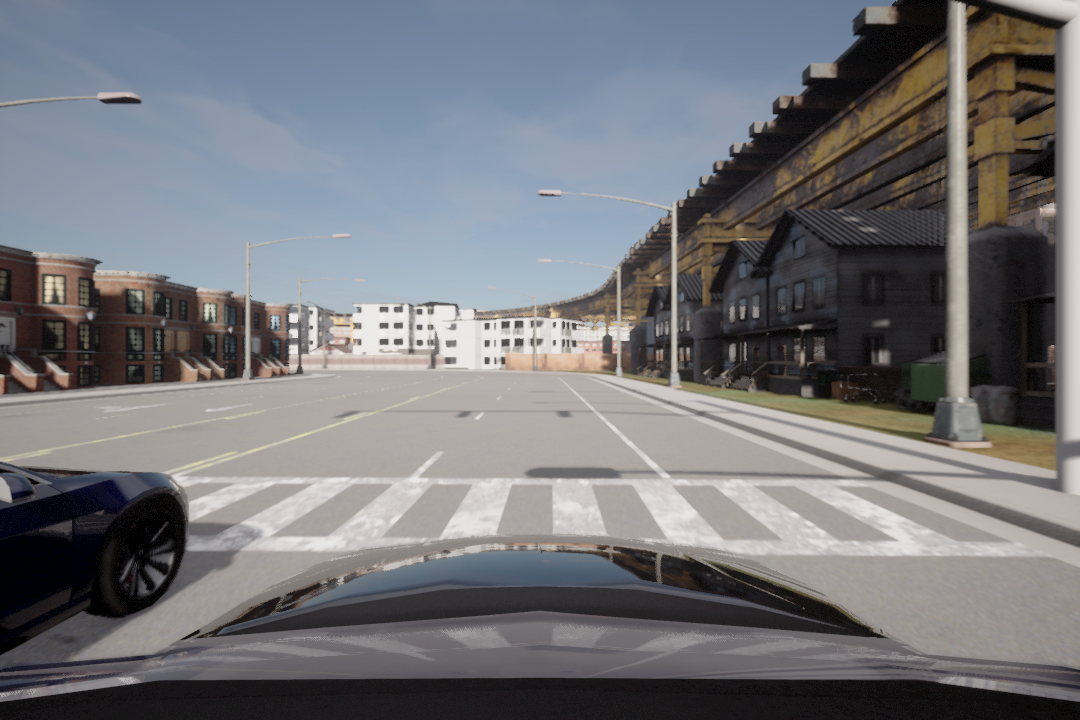walkside: (18, 461, 1042, 570)
